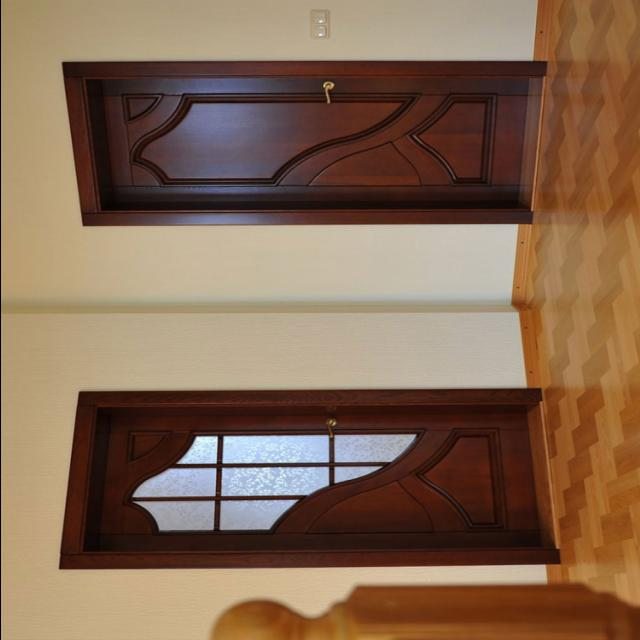close: (89, 398, 538, 556), (93, 76, 536, 212)
